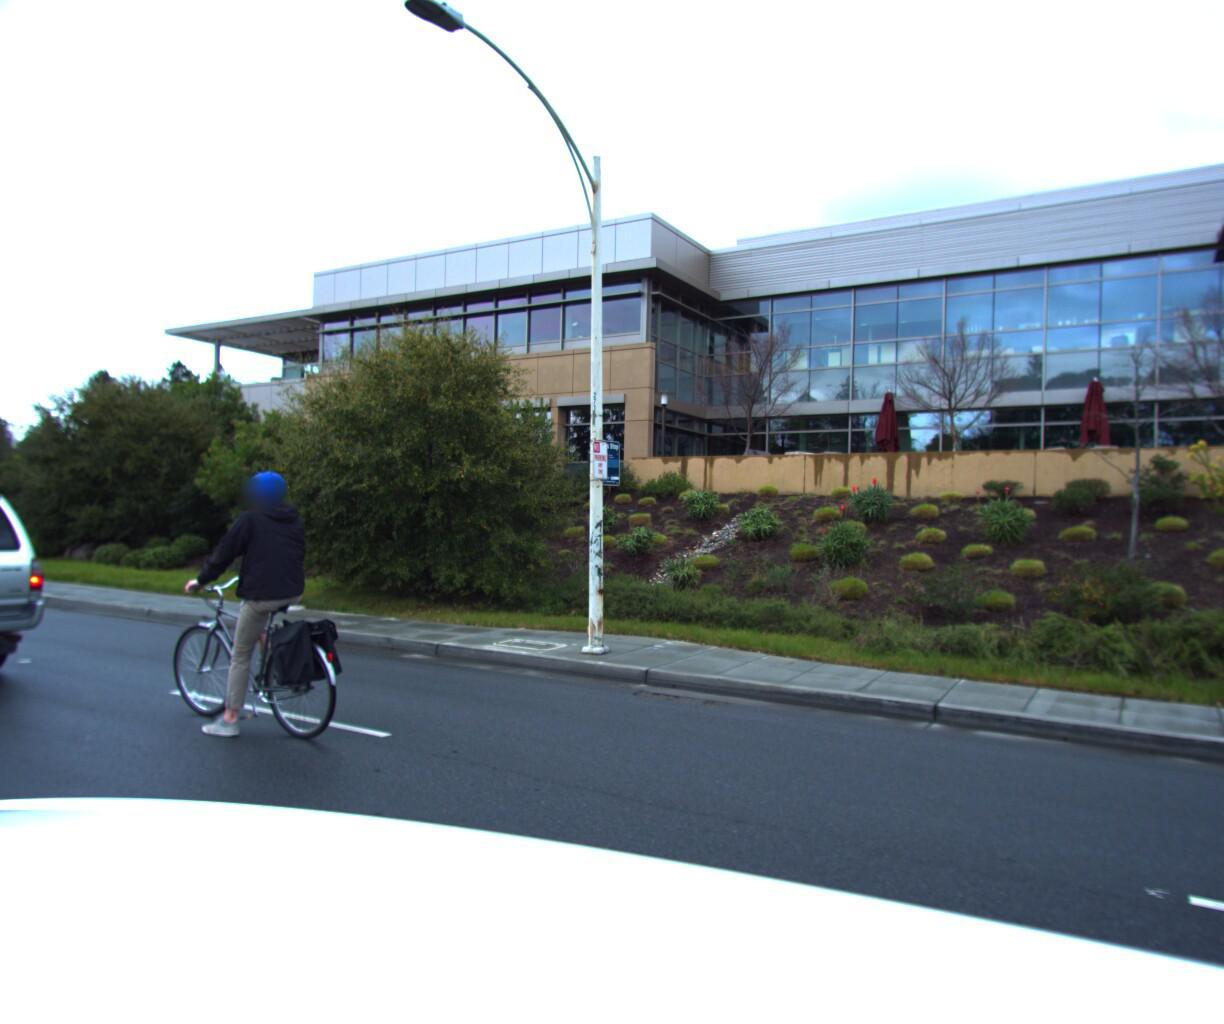bicycle: (128, 443, 390, 766)
car: (0, 455, 66, 726)
